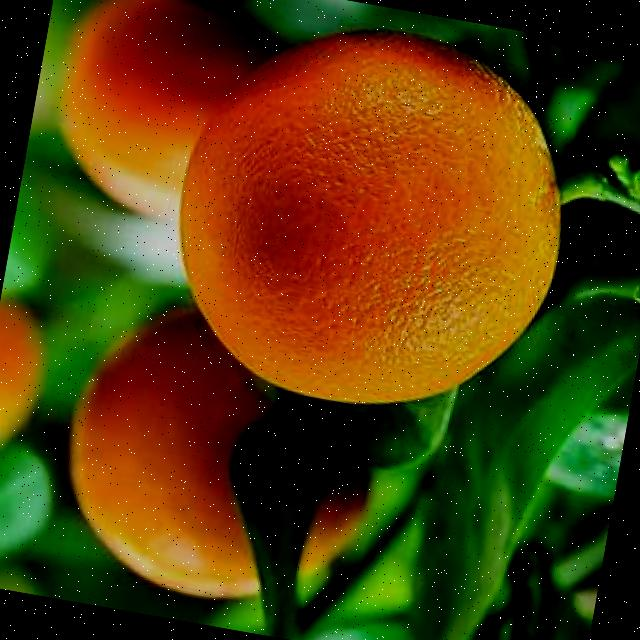orange: (146, 0, 592, 439)
